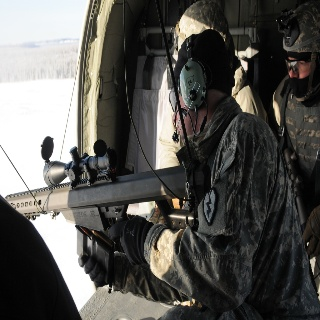rifle: (3, 135, 212, 295)
